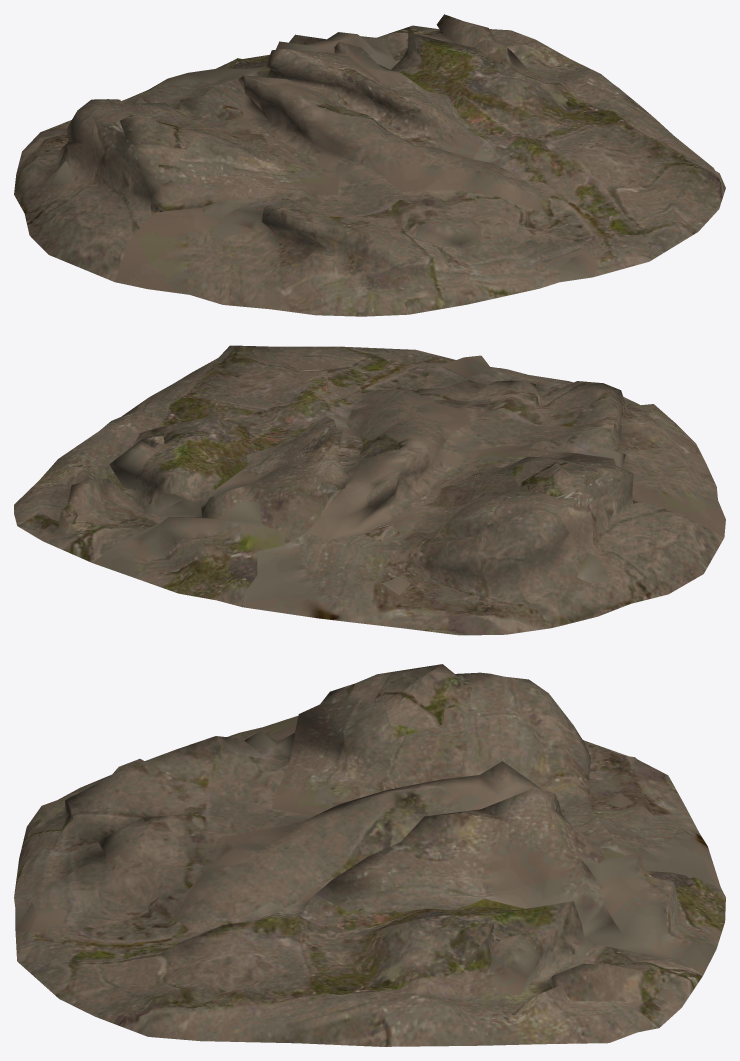
Rendered from Ground_patch_.fbx.
3 renders of one model, top to bottom at view 1: azimuth 30°, elevation 25°; view 2: azimuth 150°, elevation 25°; view 3: azimuth 270°, elevation 25°, orthographic. The views are drawn at different scales.
Parts seen in each view (by area): view 1: Aset_assembly_rock_L_td2ufeoda_LOD5:Aset_assembly_rock_L_td2; view 2: Aset_assembly_rock_L_td2ufeoda_LOD5:Aset_assembly_rock_L_td2; view 3: Aset_assembly_rock_L_td2ufeoda_LOD5:Aset_assembly_rock_L_td2.
Boxes of the visible parts, bbox=[...] form: Aset_assembly_rock_L_td2ufeoda_LOD5:Aset_assembly_rock_L_td2: bbox=[14, 14, 725, 316]; Aset_assembly_rock_L_td2ufeoda_LOD5:Aset_assembly_rock_L_td2: bbox=[14, 345, 725, 635]; Aset_assembly_rock_L_td2ufeoda_LOD5:Aset_assembly_rock_L_td2: bbox=[14, 664, 725, 1046].
Bounding box in the file's own units: 7.43 × 1.13 × 6.65.
1 material, 1 textured.
